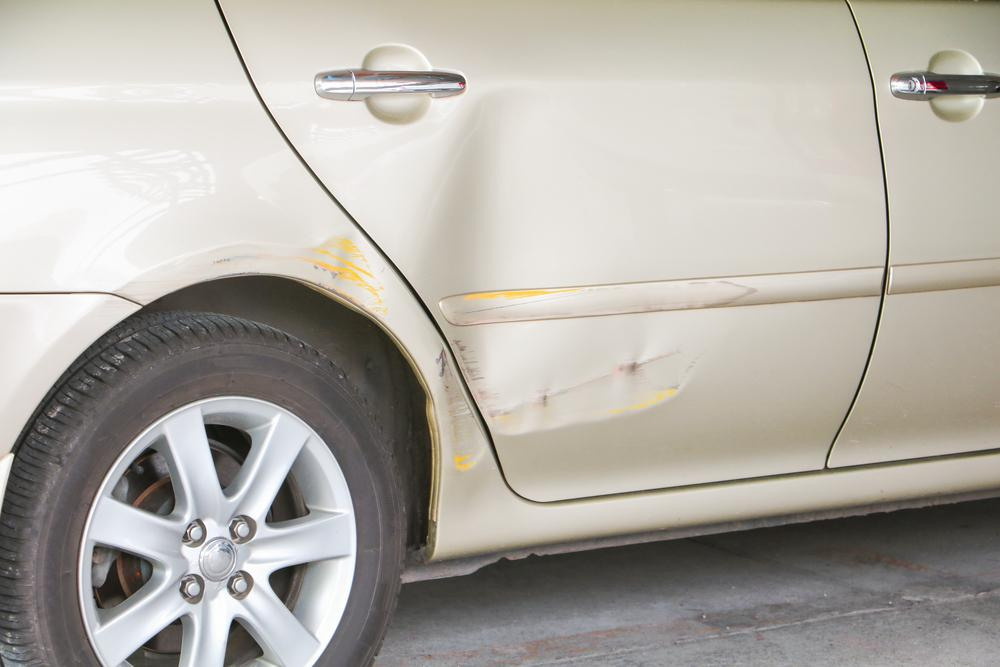dent: (408, 85, 737, 437), (307, 233, 386, 313), (440, 344, 486, 468)
